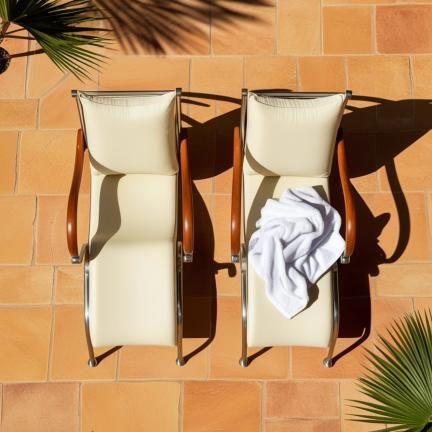empty chair: (67, 89, 193, 367)
occupied chair: (231, 89, 355, 367)
